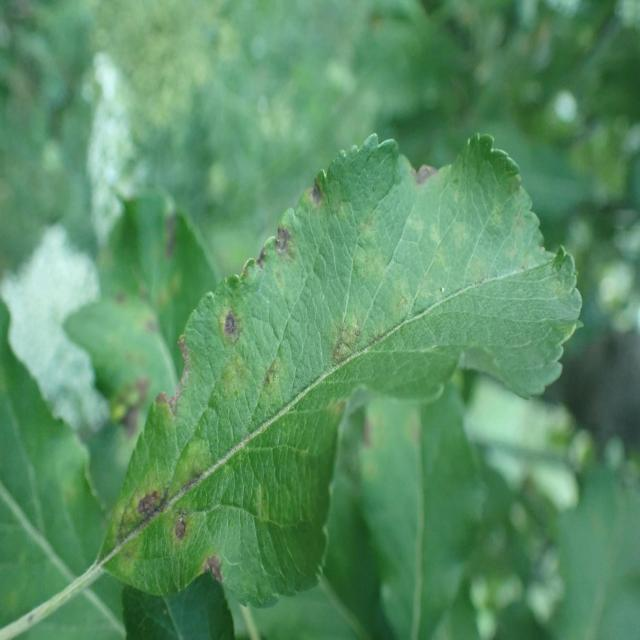scab: (104, 161, 436, 605), (73, 178, 224, 436)
